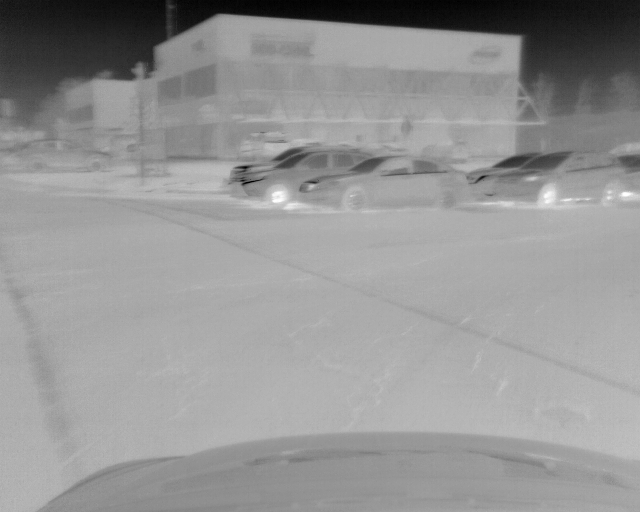car: (300, 151, 469, 209), (228, 143, 367, 205), (498, 150, 622, 206), (1, 138, 111, 173), (467, 151, 534, 203)
